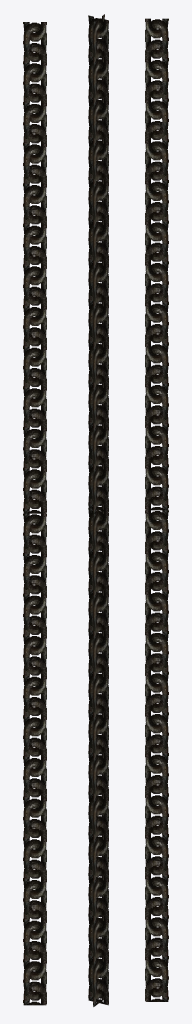
The model's file is KM_VOB_CHAIN_V2.glb.
The picture shows the model from 3 angles, left to right: view 1: azimuth 90°, elevation 25°; view 2: azimuth 150°, elevation 25°; view 3: azimuth 270°, elevation 25°; orthographic projection.
Visible parts, largest first — view 1: Mesh; view 2: Mesh; view 3: Mesh.
Boxes of the visible parts, <box> form: Mesh: <box>23,22,46,1005</box>; Mesh: <box>88,14,108,1006</box>; Mesh: <box>145,18,168,1001</box>.
Size of the model in its own units: 0.0776 by 2.82 by 0.0776.
Materials: 1 (1 with a texture image).
